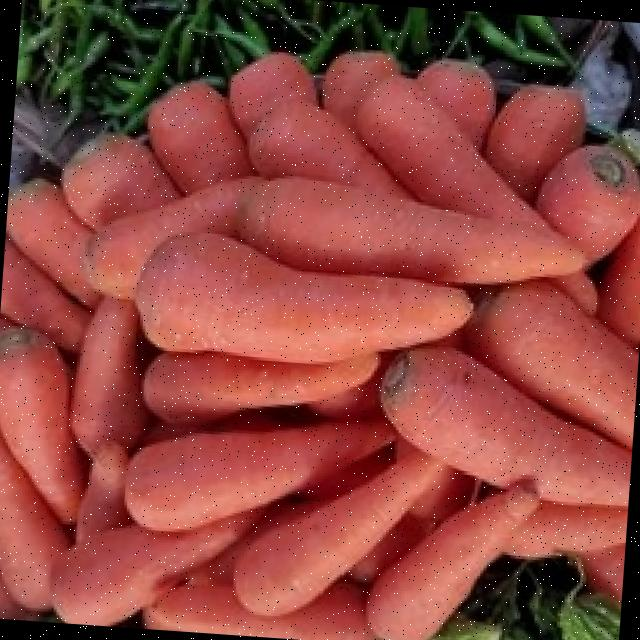carrot: (0, 57, 640, 640)
